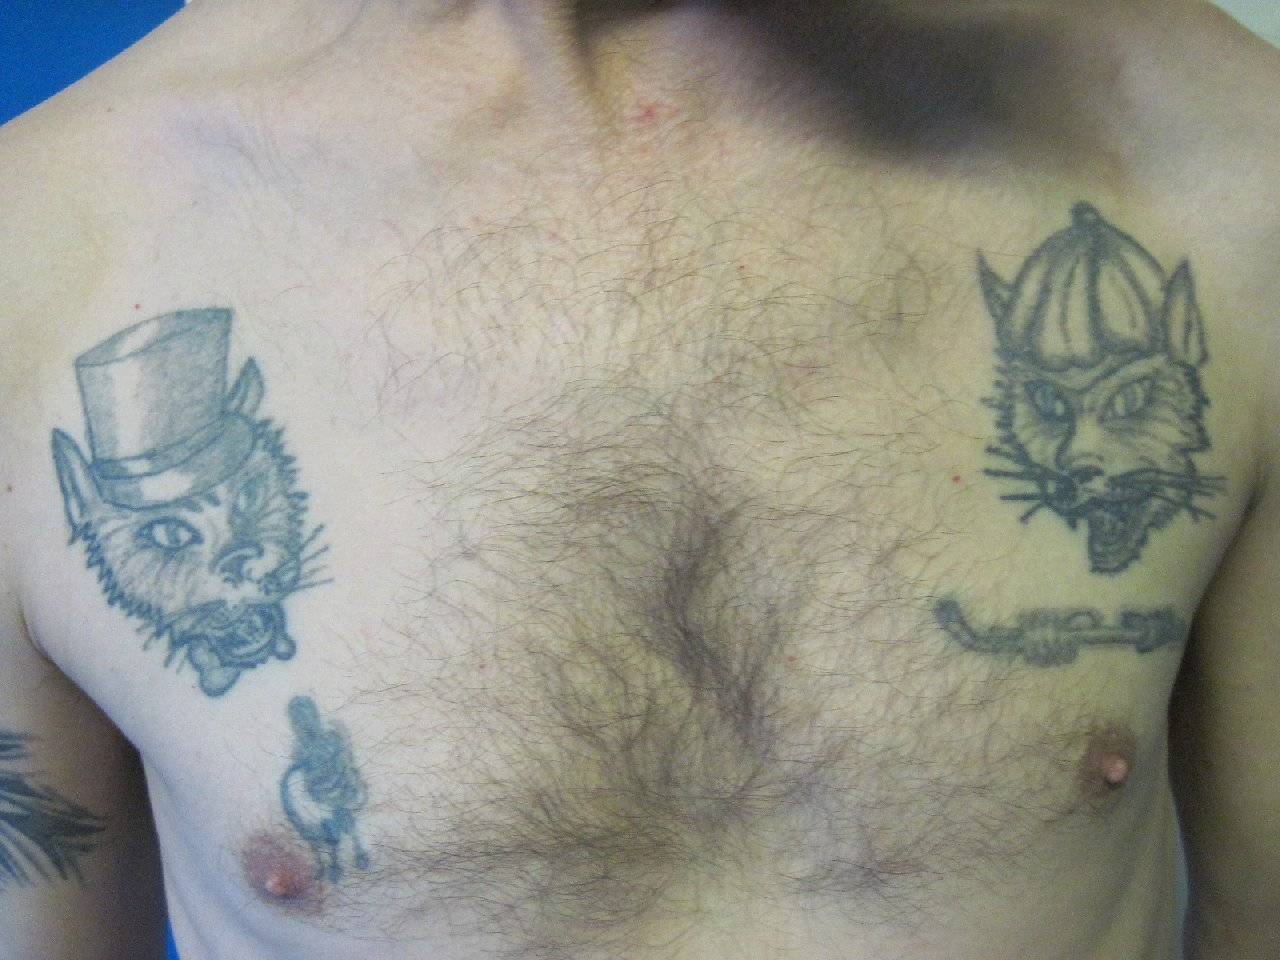tatu8_kot: (19, 289, 414, 889), (934, 194, 1231, 666)
